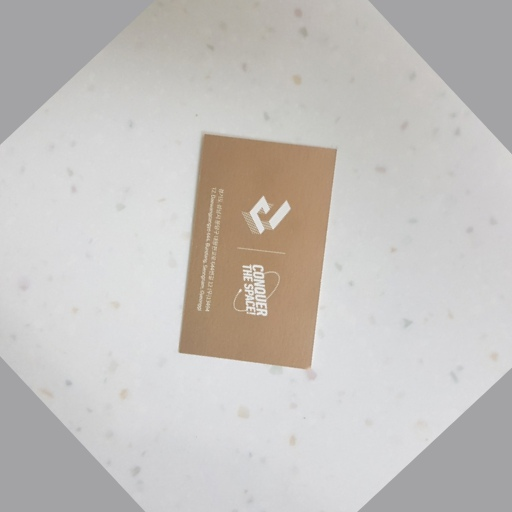Paper_2: (174, 128, 338, 389)
